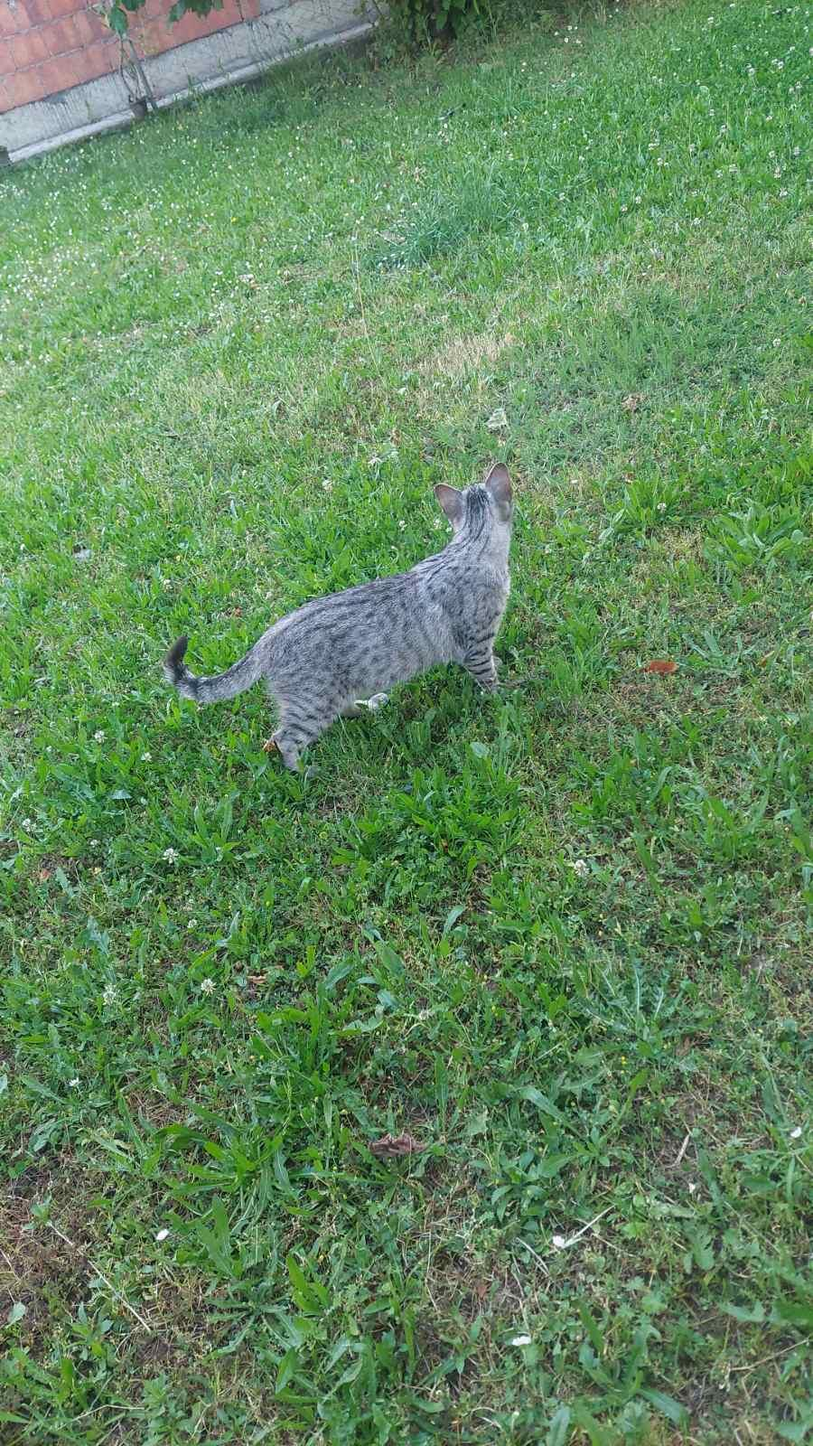macka: (163, 460, 514, 784)
